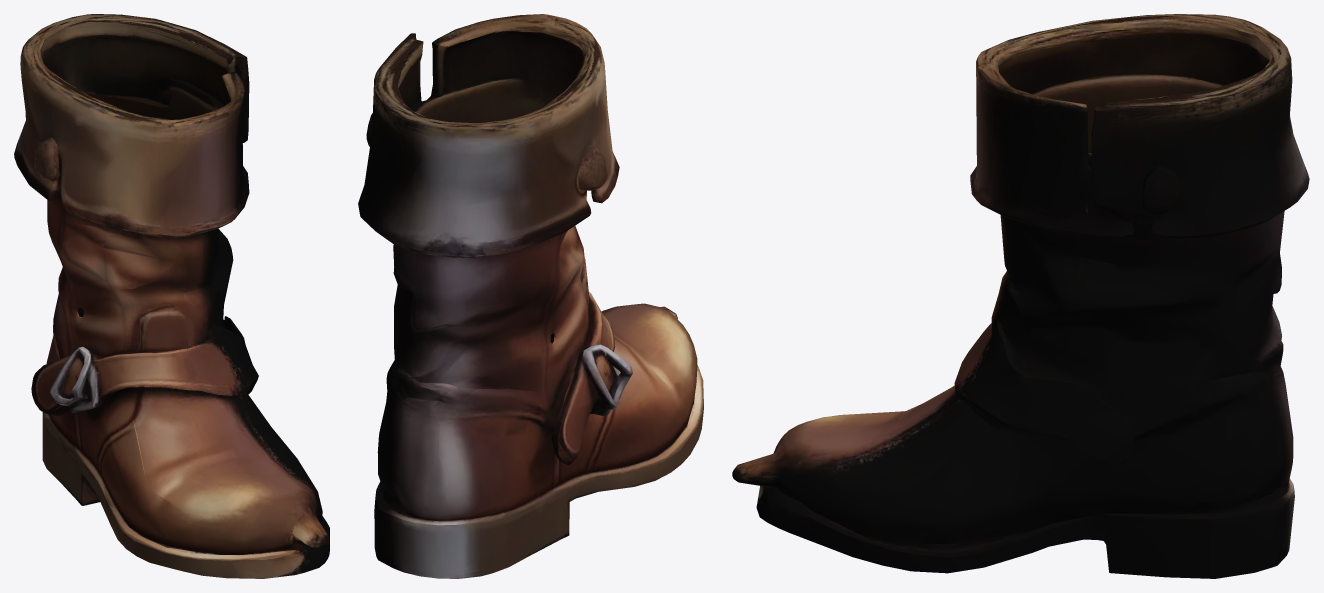
File: leather_boots.glb
3 views of the same model, side by side, from view 1: azimuth 30°, elevation 25°; view 2: azimuth 150°, elevation 25°; view 3: azimuth 270°, elevation 25° (orthographic). The views are drawn at different scales.
Visible parts, largest first — view 1: world; view 2: world; view 3: world.
Boxes of the visible parts, x1,y1,x2,y2 form: world: (14, 14, 329, 578); world: (358, 14, 703, 578); world: (732, 14, 1309, 578).
Bounding box in the file's own units: 0.1795 × 0.3583 × 0.3858.
Materials: 1 (1 with a texture image).
